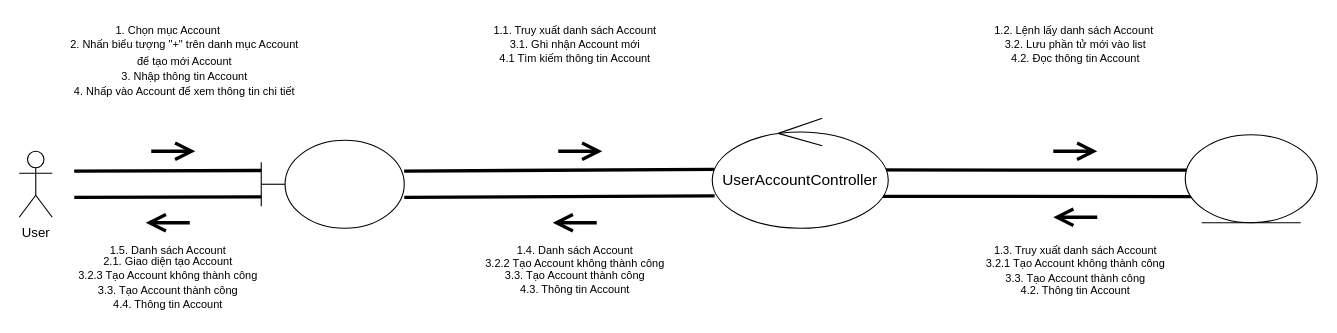
Image size: 1337x333. Some labels were removed from this diagram. The centre of each missing label's shape, as x and y in pixels:
Database: pixel 1250 178
Giao diện mục Account: pixel 332 183
